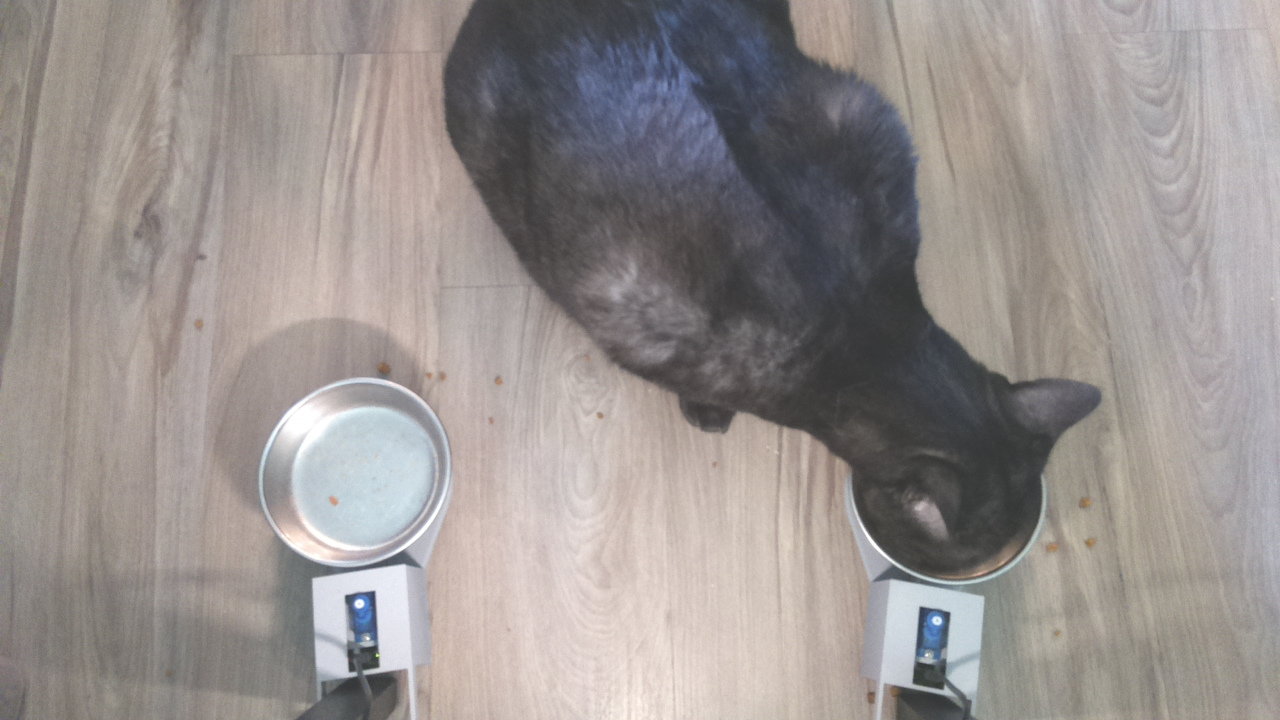open_bowl: (258, 375, 456, 570)
saki_eating: (832, 337, 1115, 596)
